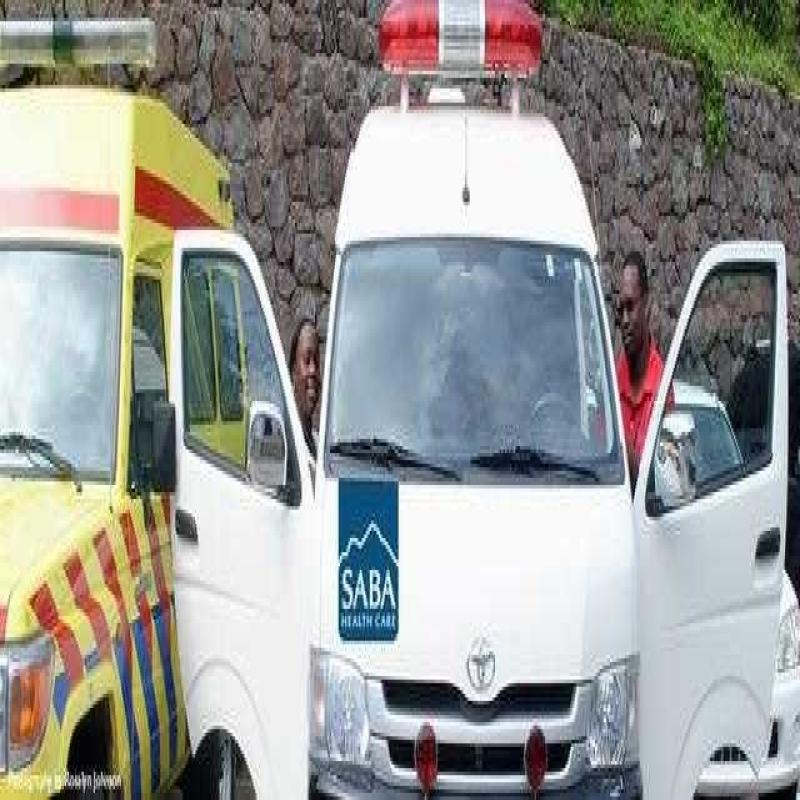AmbulanceSiren: (366, 3, 558, 111)
